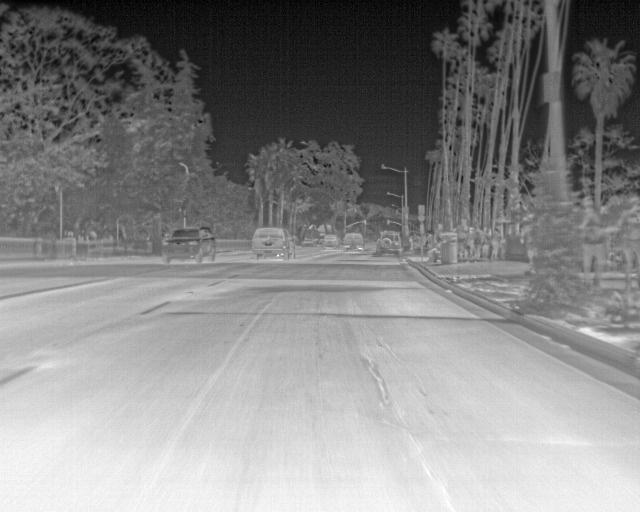bicycle: (163, 227, 218, 266), (251, 225, 296, 261), (373, 230, 402, 256), (344, 232, 367, 253), (322, 229, 339, 247)
empty: (614, 194, 638, 274), (458, 218, 472, 264)
